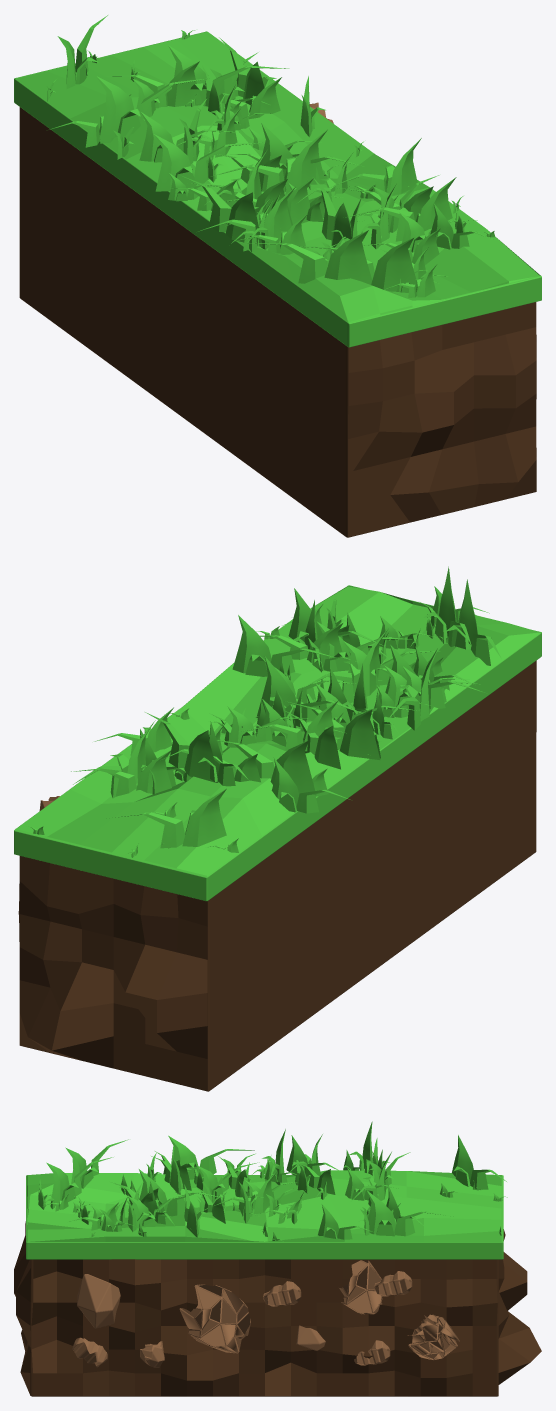
File: platforma_bol.fbx
3 renders of one model, top to bottom at view 1: azimuth 30°, elevation 25°; view 2: azimuth 150°, elevation 25°; view 3: azimuth 270°, elevation 25°, orthographic. The views are drawn at different scales.
Parts seen in each view (by area): view 1: Cube_2, Cube_1, Pyramid_3_124, Pyramid_3_40, Pyramid_3_20, Pyramid_3_38, Pyramid_3_74, Pyramid_3_25, Pyramid_3_119, Pyramid_3_101, Pyramid_3_22, Pyramid_3_42 (+18 smaller); view 2: Cube_2, Cube_1, Pyramid_3_3, Pyramid_3_119, Pyramid_3_40, Pyramid_3_22, Pyramid_3_20, Pyramid_3_124, Pyramid_3_17, Pyramid_3_62, Pyramid_3_72, Pyramid_3_38 (+14 smaller); view 3: Cube_2, Cube_1, Platonic_1, Platonic_4, Platonic_3, Platonic_5, Pyramid_3_47, Pyramid_3_3, Pyramid_3_25, Pyramid_3_74, Pyramid_3_17, Capsule_2 (+22 smaller).
Boxes of the visible parts, <box> form: Cube_2: <box>19,107,536,537</box>; Cube_1: <box>14,31,541,347</box>; Pyramid_3_124: <box>248,230,372,284</box>; Pyramid_3_40: <box>96,76,209,139</box>; Pyramid_3_20: <box>154,134,262,191</box>; Pyramid_3_38: <box>211,129,327,195</box>; Pyramid_3_74: <box>299,238,416,291</box>; Pyramid_3_25: <box>182,176,262,247</box>; Pyramid_3_119: <box>330,138,421,200</box>; Pyramid_3_101: <box>345,177,456,241</box>; Pyramid_3_22: <box>168,45,289,106</box>; Pyramid_3_42: <box>104,61,201,106</box>; Cube_2: <box>18,660,536,1091</box>; Cube_1: <box>14,585,541,901</box>; Pyramid_3_3: <box>108,788,226,848</box>; Pyramid_3_119: <box>232,615,338,676</box>; Pyramid_3_40: <box>217,740,316,795</box>; Pyramid_3_22: <box>145,712,218,782</box>; Pyramid_3_20: <box>286,701,380,759</box>; Pyramid_3_124: <box>445,579,501,665</box>; Pyramid_3_17: <box>300,628,388,703</box>; Pyramid_3_62: <box>71,750,171,796</box>; Pyramid_3_72: <box>271,758,350,813</box>; Pyramid_3_38: <box>256,656,362,726</box>; Cube_2: <box>14,1221,541,1396</box>; Cube_1: <box>26,1170,503,1259</box>; Platonic_1: <box>179,1284,250,1353</box>; Platonic_4: <box>77,1274,120,1328</box>; Platonic_3: <box>407,1314,459,1360</box>; Platonic_5: <box>339,1260,382,1314</box>; Pyramid_3_47: <box>366,1190,451,1236</box>; Pyramid_3_3: <box>452,1135,506,1189</box>; Pyramid_3_25: <box>168,1135,254,1179</box>; Pyramid_3_74: <box>46,1157,113,1206</box>; Pyramid_3_17: <box>139,1169,223,1217</box>; Capsule_2: <box>374,1271,412,1296</box>.
Bounding box in the file's own units: 312 × 292 × 677.
